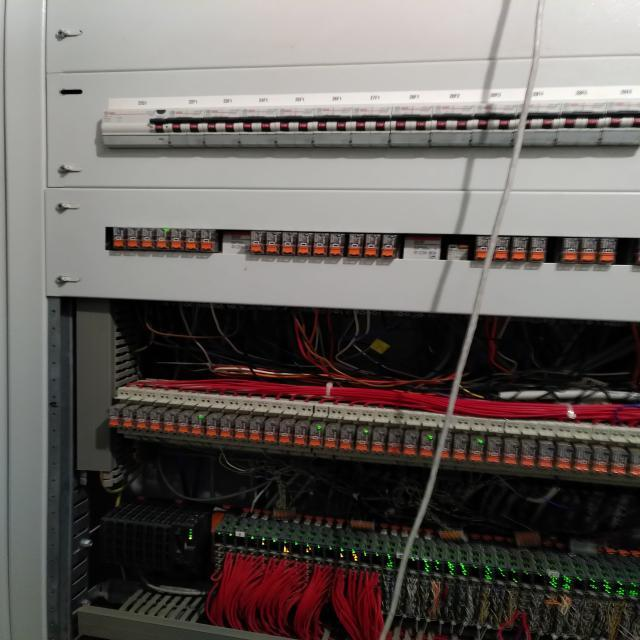Dimmer: (405, 238, 441, 260), (222, 232, 249, 253)
Leitungsschutzschalter: (108, 99, 171, 147), (558, 87, 604, 146), (389, 92, 434, 147), (473, 90, 516, 147), (515, 89, 558, 145), (431, 90, 473, 146), (600, 87, 640, 144), (274, 95, 315, 147), (315, 94, 353, 148), (352, 92, 390, 146), (167, 97, 208, 147), (207, 96, 242, 147), (242, 95, 276, 146), (448, 241, 470, 260)
Relais: (589, 444, 612, 473), (473, 236, 500, 260), (609, 447, 631, 476), (554, 441, 575, 470), (537, 440, 556, 468), (597, 238, 618, 263), (502, 438, 521, 465), (520, 439, 538, 467), (529, 237, 549, 262), (370, 427, 389, 453), (452, 433, 470, 460), (485, 436, 503, 463), (572, 445, 590, 472), (579, 238, 598, 263), (560, 238, 579, 263), (386, 428, 404, 454), (468, 434, 485, 461), (323, 423, 340, 450), (380, 234, 399, 258), (510, 237, 529, 261), (278, 419, 297, 443), (338, 425, 356, 450), (294, 419, 310, 446), (403, 430, 420, 455), (420, 432, 437, 457), (356, 426, 372, 452), (263, 418, 280, 442), (309, 422, 326, 446), (199, 230, 218, 251), (248, 415, 262, 442), (364, 234, 381, 256), (347, 234, 364, 256), (297, 233, 314, 255), (282, 233, 299, 254), (329, 233, 346, 254), (250, 231, 266, 253), (313, 233, 329, 255), (265, 232, 281, 253), (205, 415, 220, 437), (219, 413, 232, 438), (629, 448, 640, 477), (184, 229, 199, 250), (234, 415, 246, 440), (192, 413, 205, 436), (112, 228, 126, 249), (141, 228, 155, 248), (171, 229, 185, 249), (136, 406, 147, 429), (150, 410, 162, 431), (176, 414, 189, 433), (127, 228, 140, 247), (156, 230, 168, 249), (164, 412, 175, 432), (124, 406, 134, 428), (110, 406, 119, 428)
